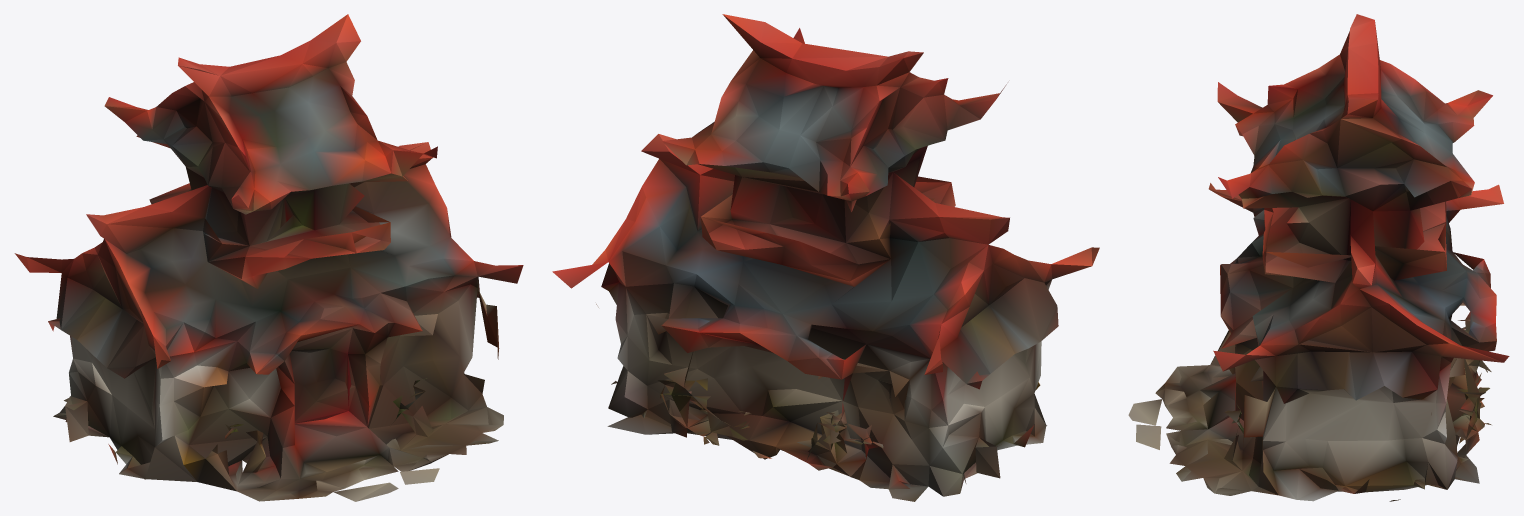
File: bq_teahouse.vc2.glb
The picture shows the model from 3 angles, left to right: view 1: azimuth 30°, elevation 25°; view 2: azimuth 150°, elevation 25°; view 3: azimuth 270°, elevation 25°; orthographic projection. The views are drawn at different scales.
Visible parts, largest first — view 1: bq_teahouse; view 2: bq_teahouse; view 3: bq_teahouse.
Part boxes in pixels (box(x1,y1,x2,y2)): bq_teahouse: box(14, 14, 523, 501); bq_teahouse: box(552, 14, 1099, 501); bq_teahouse: box(1128, 14, 1509, 501).
Size of the model in its own units: 1.85 by 1.77 by 1.7.
